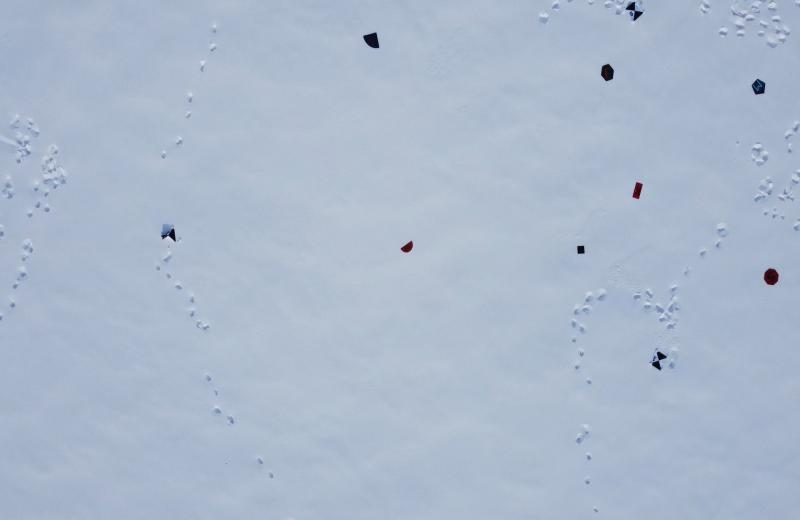Hexagon: (600, 64, 616, 83)
Octagon: (742, 308, 758, 327)
Pentagon: (742, 119, 758, 136)
Quarter Circle: (360, 36, 378, 56)
Rectangle: (631, 179, 644, 202), (605, 0, 623, 11)
Semi Circle: (382, 248, 396, 260)
Square: (558, 267, 568, 279)
